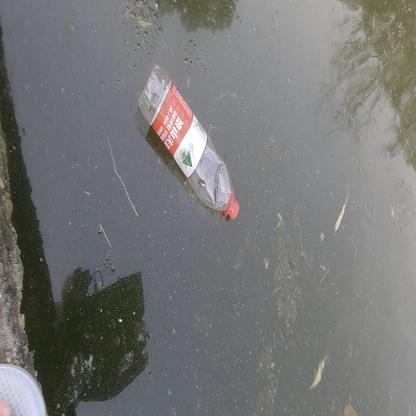plastic bottle: (138, 65, 241, 221)
